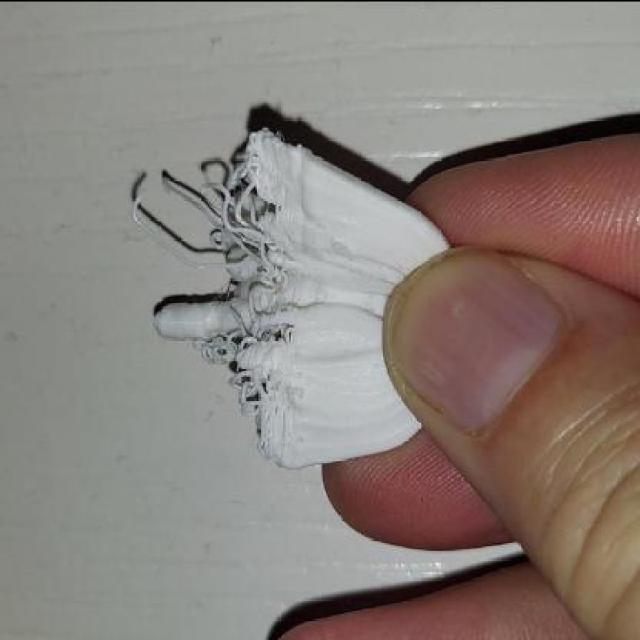Spaghetti: (132, 128, 299, 460)
